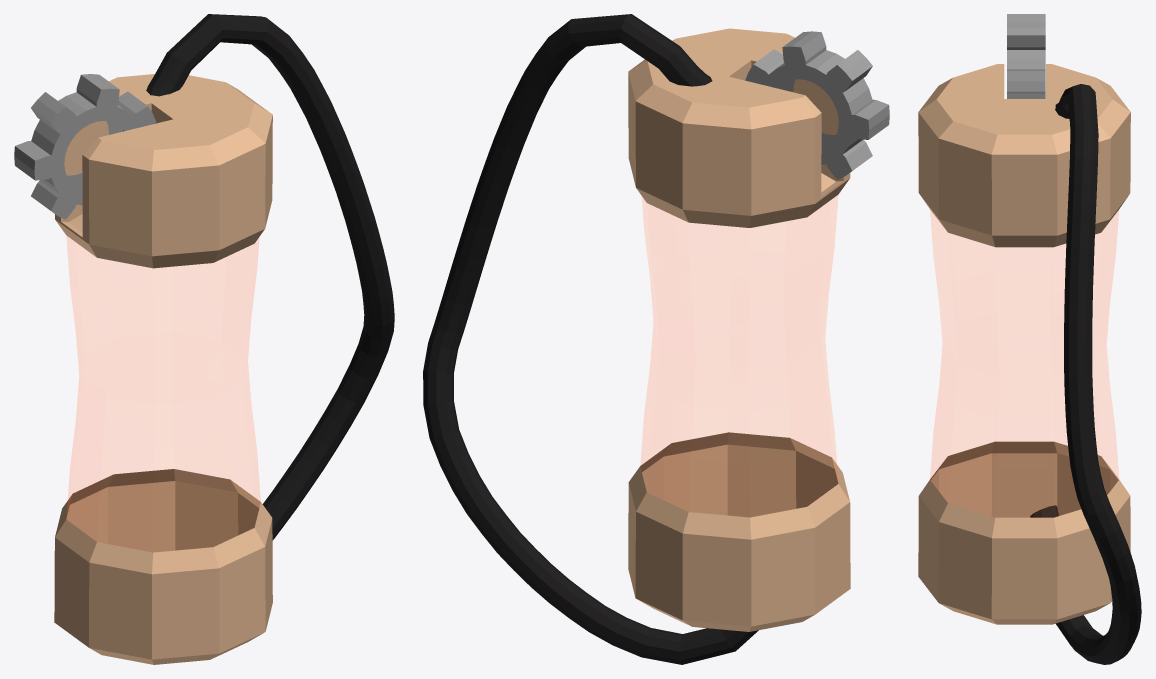
Rendered from Core Cell.fbx.
3 views of the same model, side by side, from view 1: azimuth 30°, elevation 25°; view 2: azimuth 150°, elevation 25°; view 3: azimuth 270°, elevation 25° (orthographic). The views are drawn at different scales.
Visible parts, largest first — view 1: Capsule, Tube, Gear; view 2: Capsule, Tube, Gear; view 3: Capsule, Tube, Gear.
Part boxes in pixels (<box>): Capsule: <box>54,74,272,664</box>; Tube: <box>146,14,394,540</box>; Gear: <box>14,74,155,219</box>; Capsule: <box>628,28,850,631</box>; Tube: <box>423,14,758,664</box>; Gear: <box>745,31,889,179</box>; Capsule: <box>918,64,1130,624</box>; Tube: <box>1030,84,1141,664</box>; Gear: <box>1007,14,1045,98</box>.
Bounding box in the file's own units: 461 × 679 × 232.
